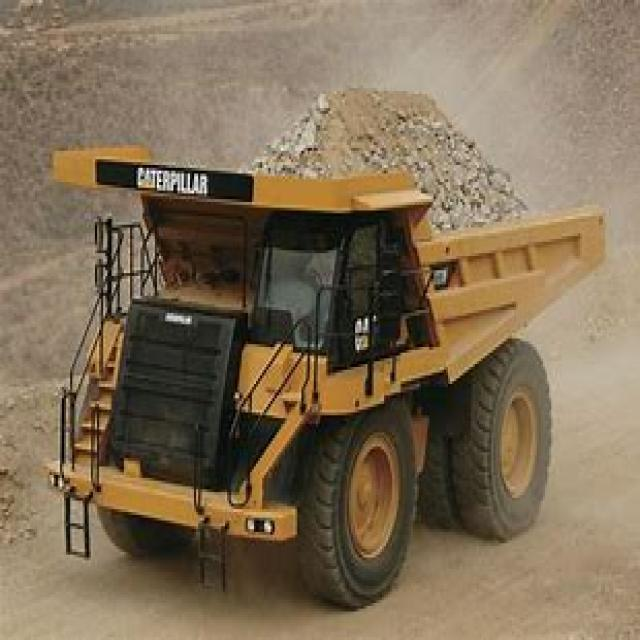dump_truck: (43, 66, 609, 612)
